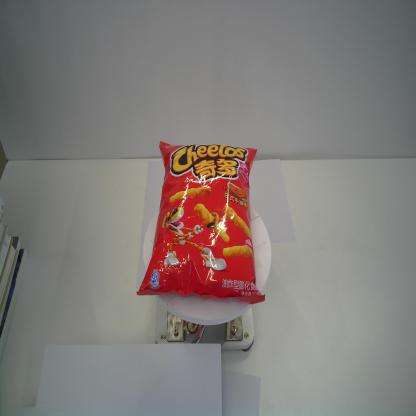Puffed Food: (136, 139, 266, 307)
